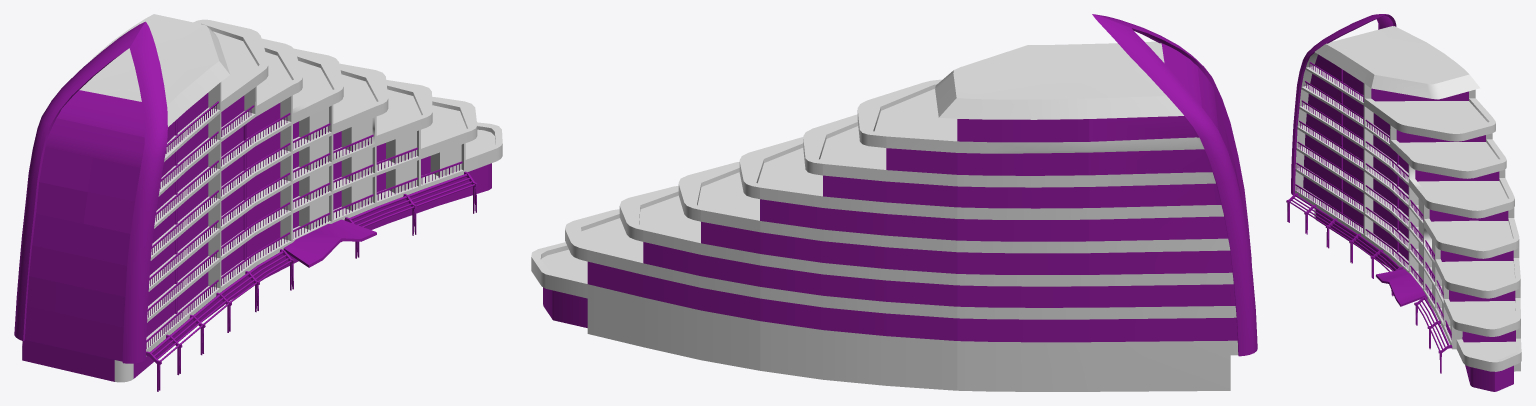
File: Hotel.fbx
3 views of the same model, side by side, from view 1: azimuth 30°, elevation 25°; view 2: azimuth 150°, elevation 25°; view 3: azimuth 270°, elevation 25° (orthographic). The views are drawn at different scales.
Parts seen in each view (by area): view 1: Hotel, Hotel Wall; view 2: Hotel Wall, Hotel; view 3: Hotel Wall, Hotel.
Part boxes in pixels (left/top/right/bottom): Hotel: left=14, top=21, right=491, bottom=391; Hotel Wall: left=22, top=14, right=502, bottom=382; Hotel Wall: left=531, top=41, right=1238, bottom=391; Hotel: left=543, top=14, right=1257, bottom=356; Hotel Wall: left=1295, top=26, right=1521, bottom=371; Hotel: left=1286, top=14, right=1515, bottom=391.
Size of the model in its own units: 5667 by 2952 by 2772.
